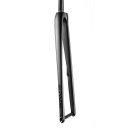fork: (50, 1, 84, 128)
